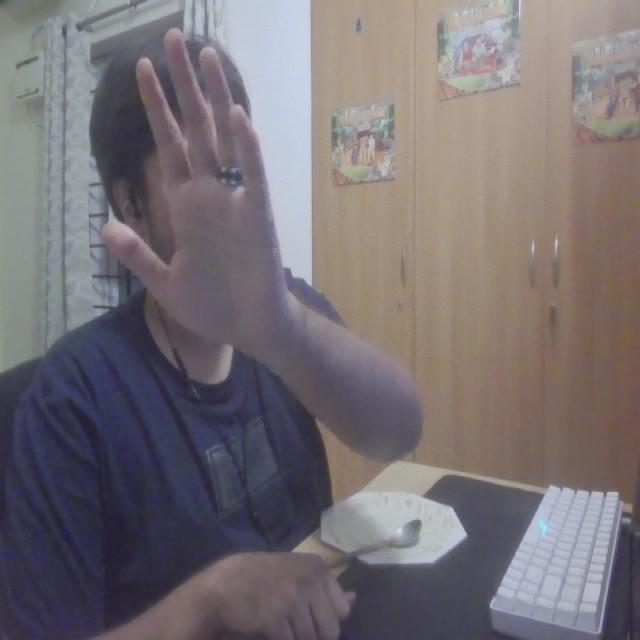hello: (96, 25, 286, 367)
